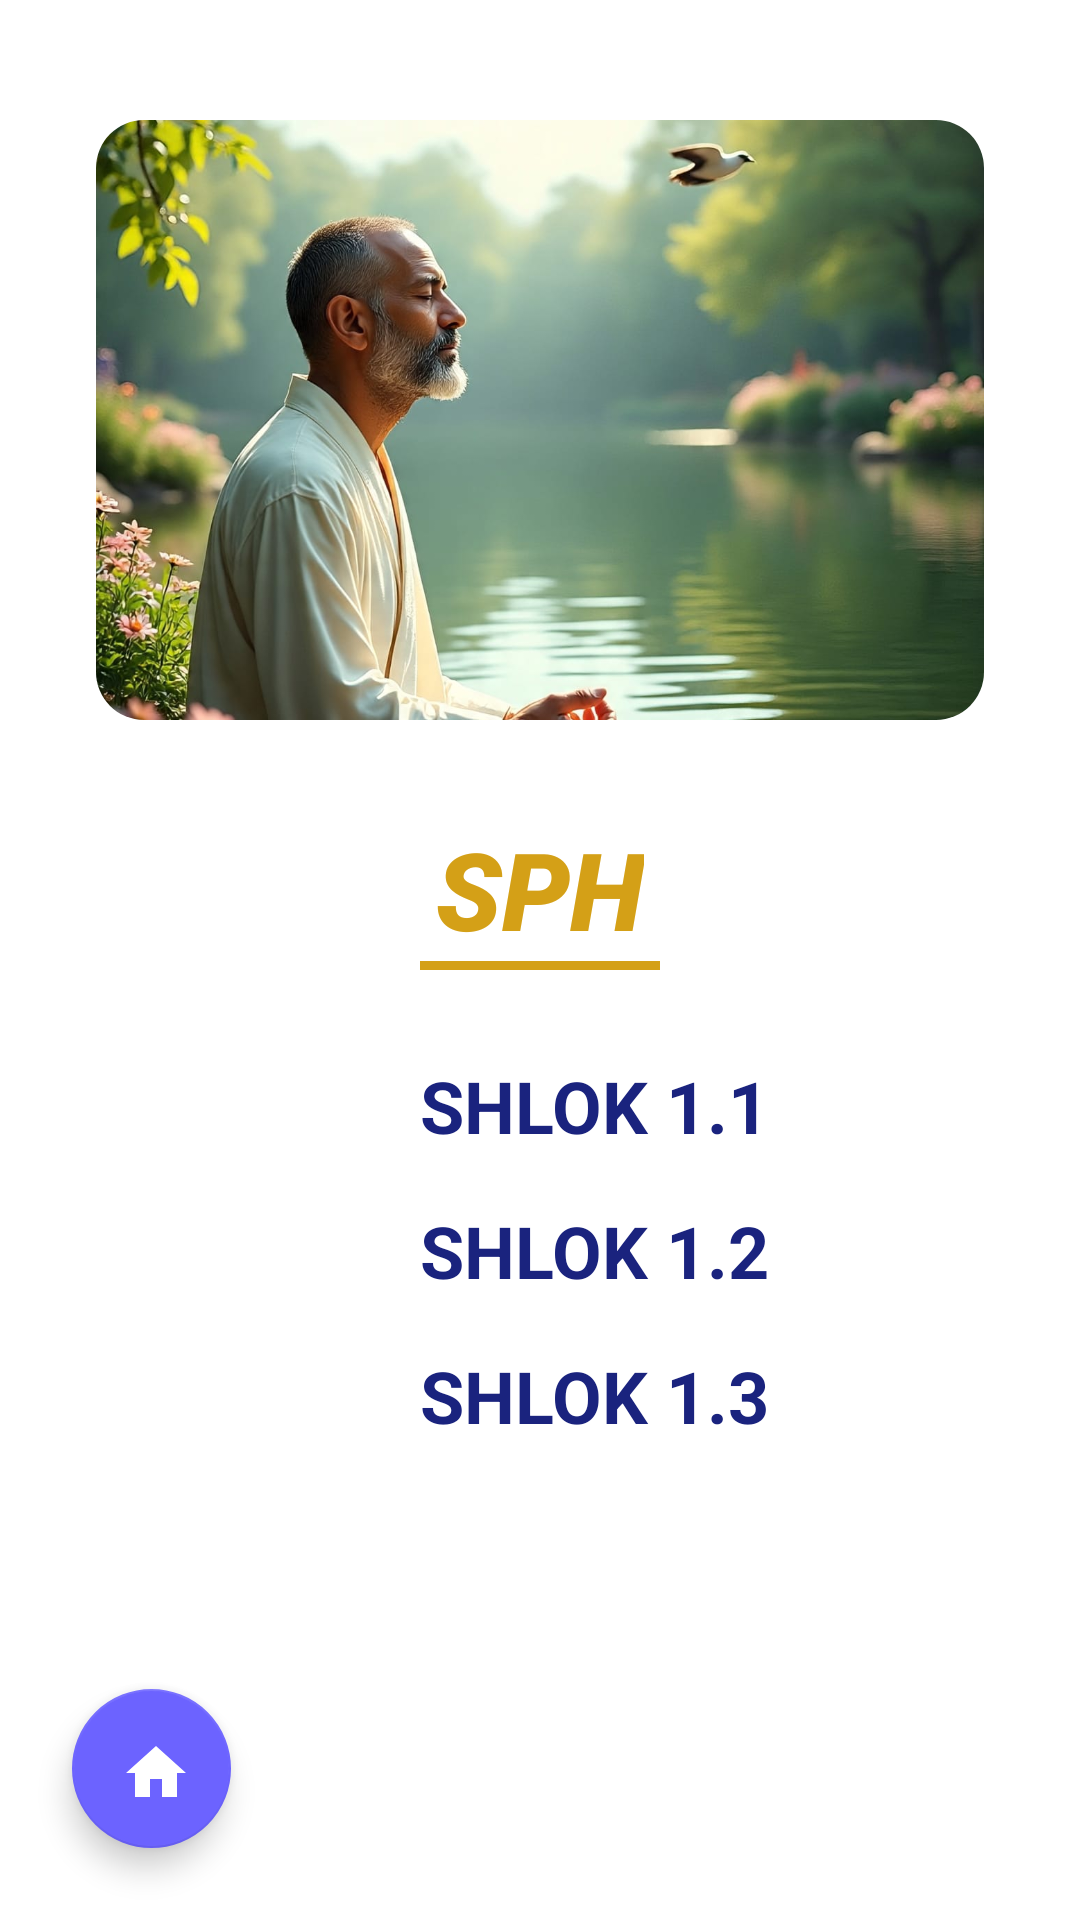

Point at icon controls on the screen. Image size 1080px x 1920px, points as [x,y].
home: [151,1768]
